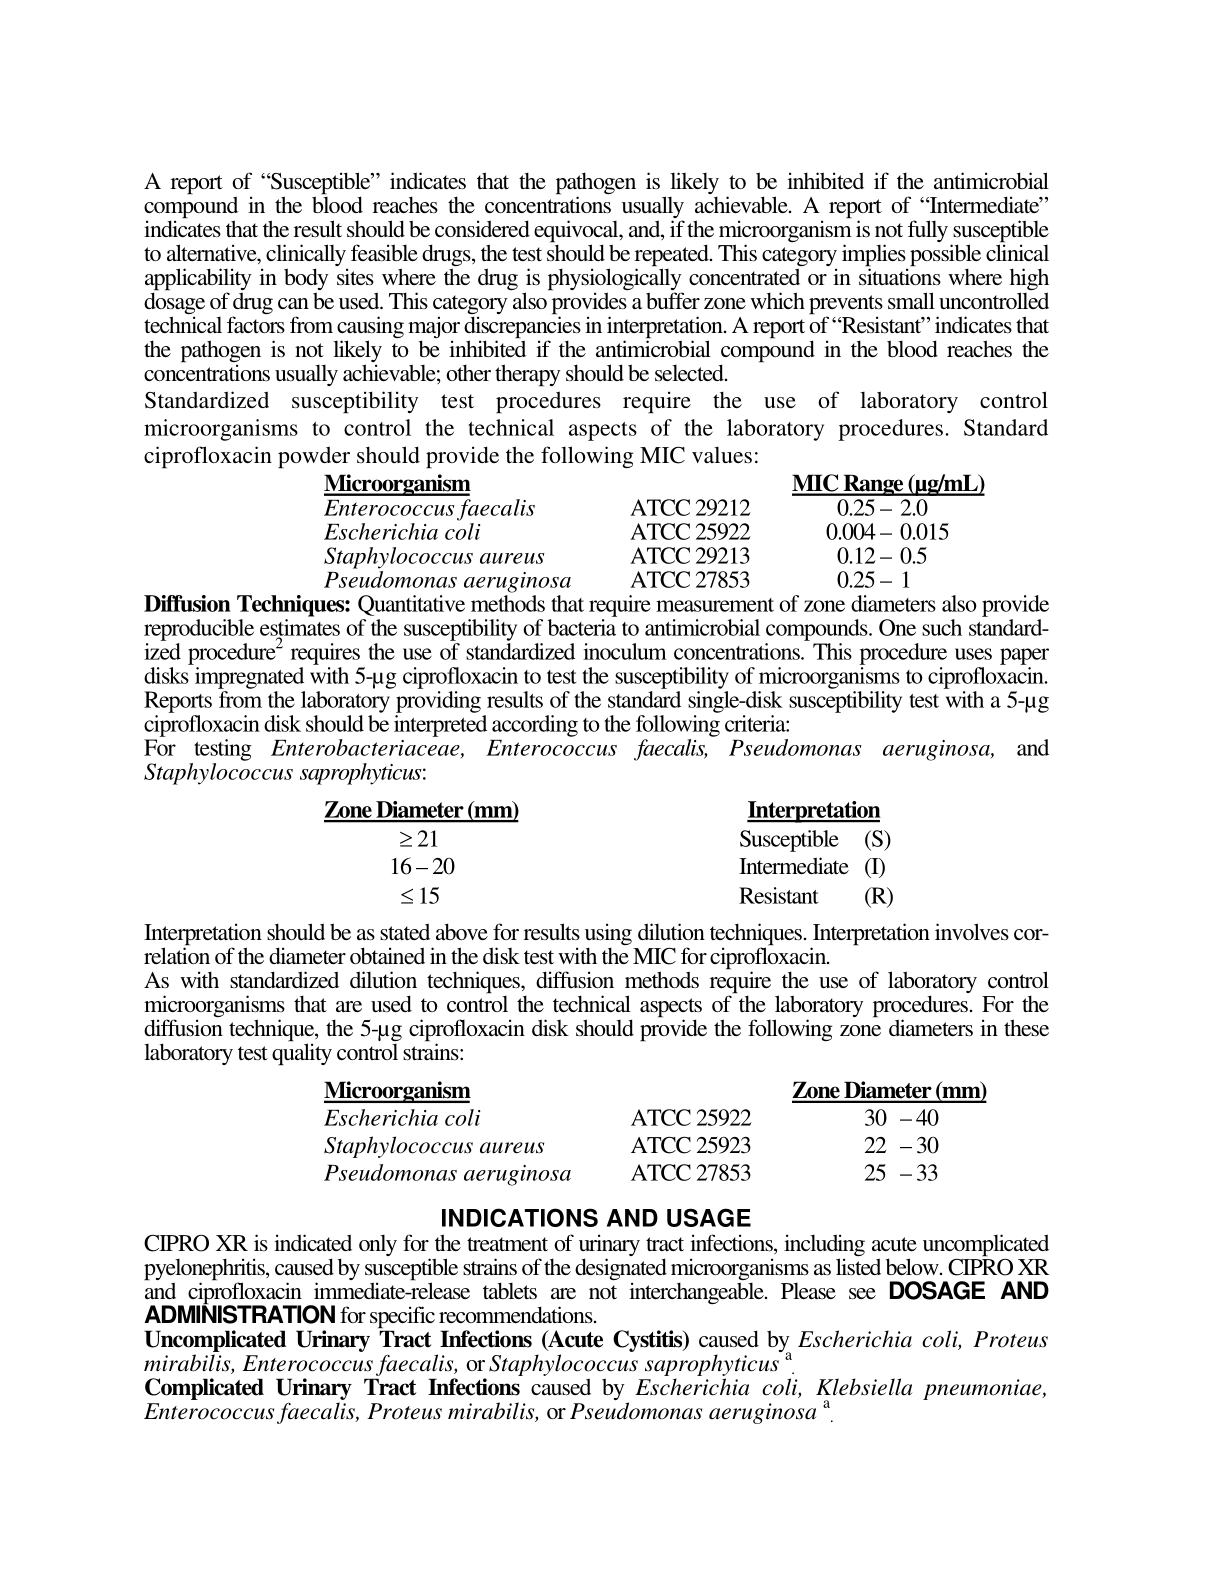nolines: (321, 468, 987, 590), (323, 1077, 987, 1185), (318, 795, 895, 912)
